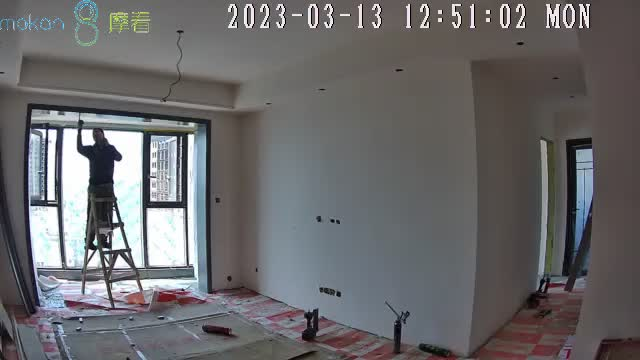people: (74, 118, 120, 251)
window: (29, 108, 202, 272)
